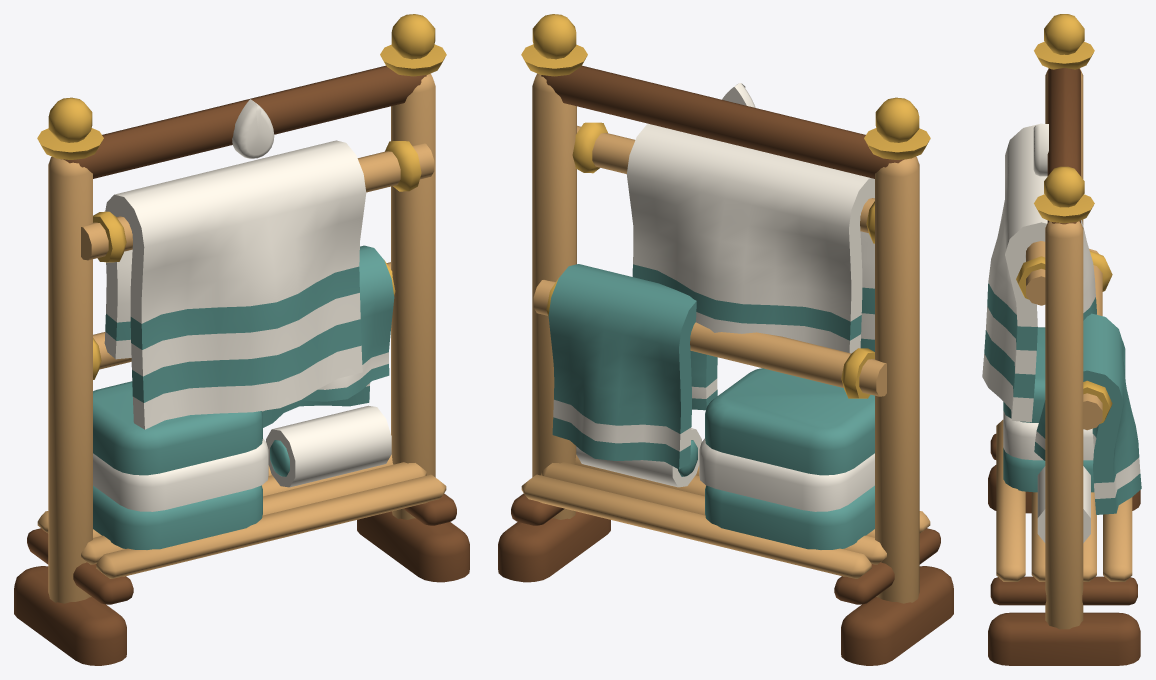
File: ShopTowelRack.fbx
3 renders of one model, left to right at view 1: azimuth 30°, elevation 25°; view 2: azimuth 150°, elevation 25°; view 3: azimuth 270°, elevation 25°, orthographic. The views are drawn at different scales.
Visible parts, largest first — view 1: ShopTowelRack; view 2: ShopTowelRack; view 3: ShopTowelRack.
Part boxes in pixels (box(x1,y1,x2,y2)): ShopTowelRack: box(14, 14, 469, 665); ShopTowelRack: box(498, 14, 953, 665); ShopTowelRack: box(982, 14, 1141, 665).
Size of the model in its own units: 0.83 by 1.06 by 0.3135.
